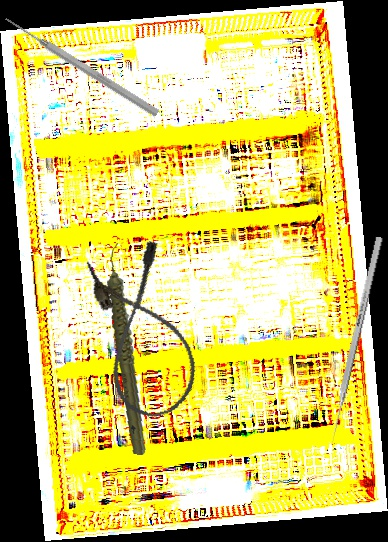Cannula: (82, 238, 206, 426)
Handpiece: (87, 242, 169, 456)
Pusher: (2, 13, 161, 119), (327, 236, 384, 446)
